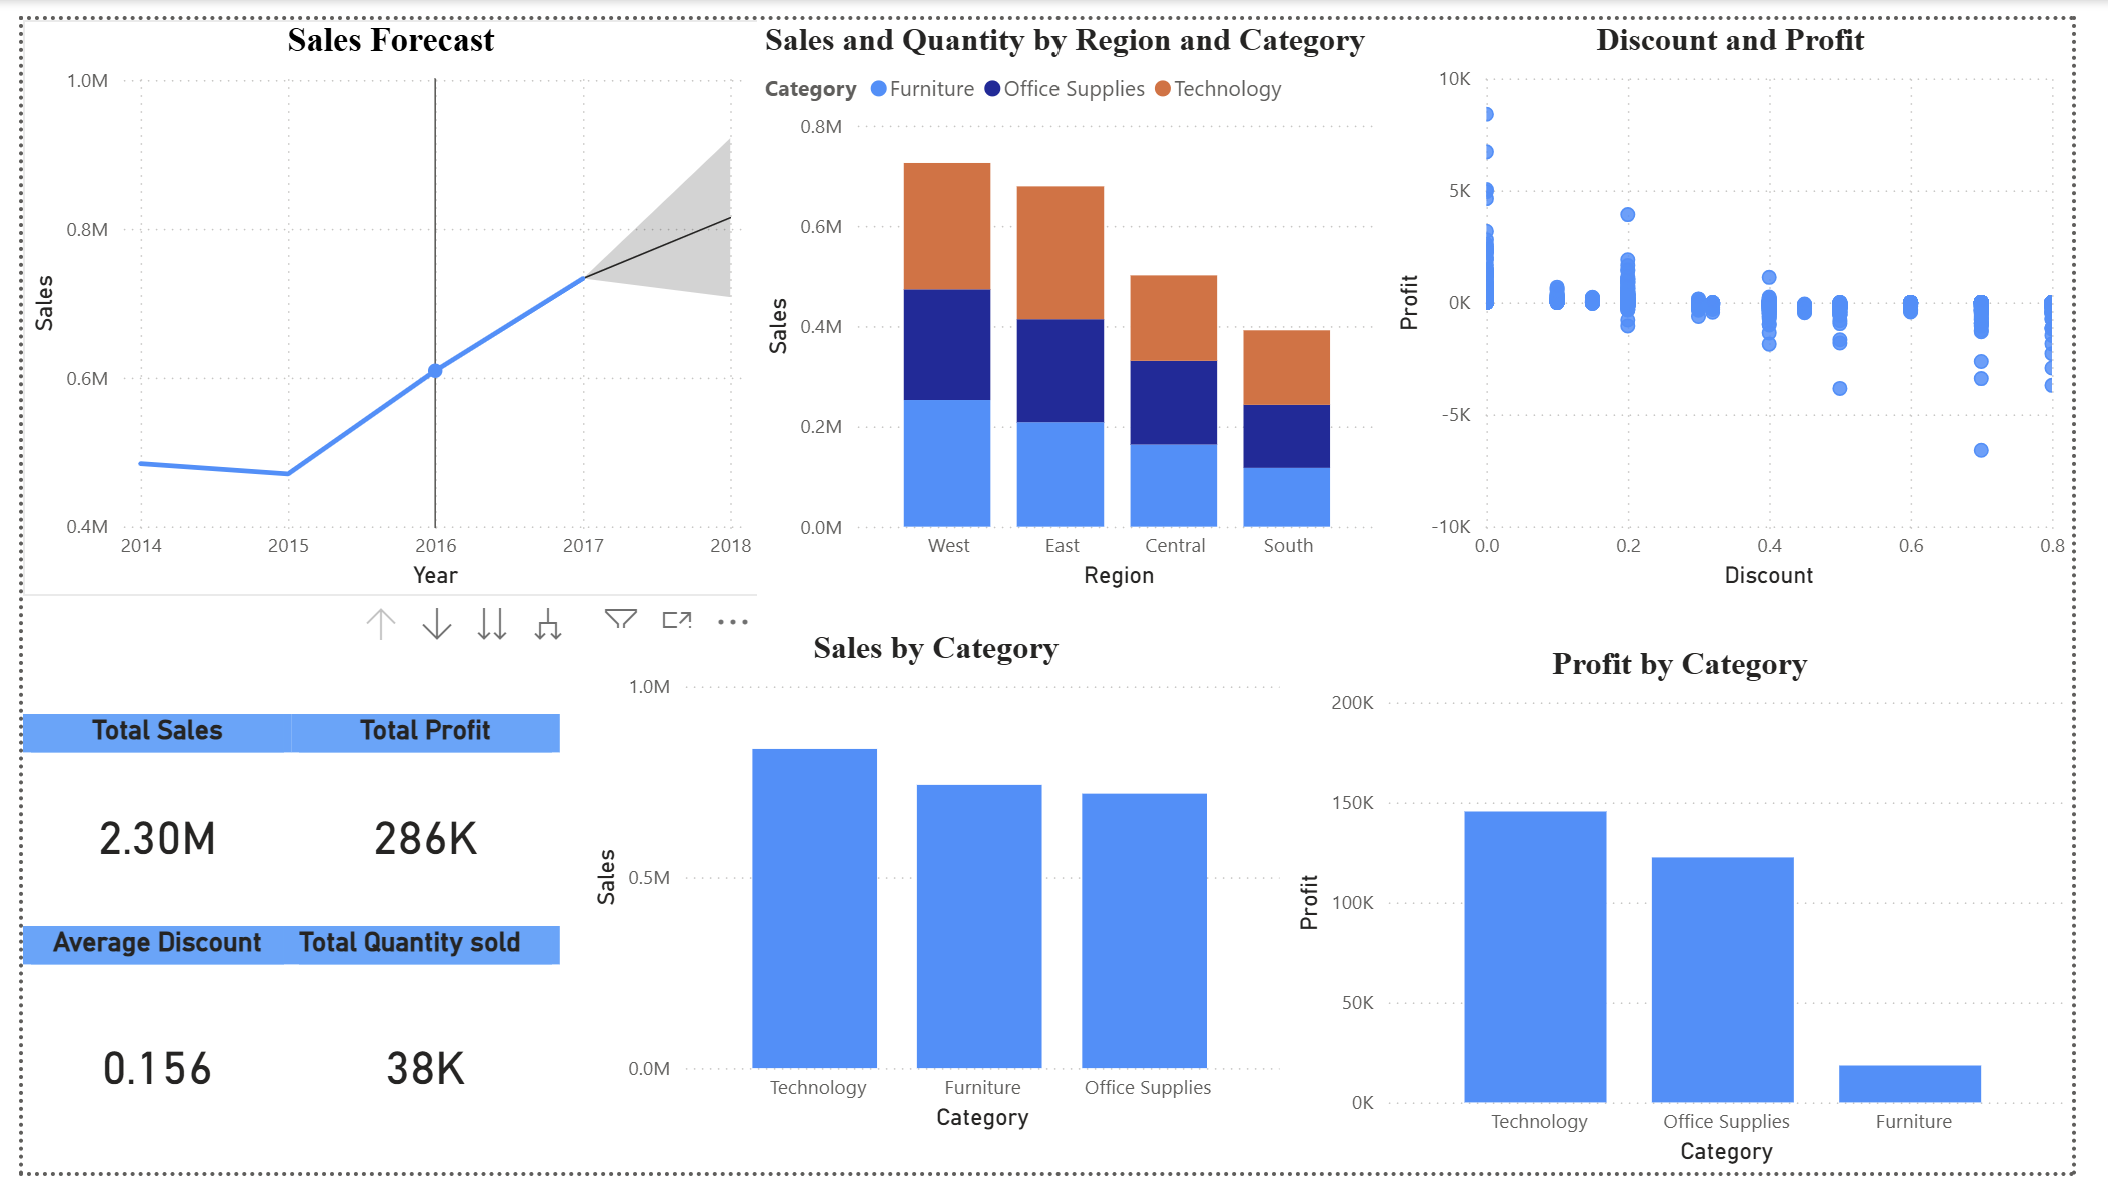

The dashboard page shown, as its layout file describes it:
{"tool":"powerbi","page":{"name":"Page 1","canvas":[1280,720],"ordinal":0},"visuals":[{"type":"lineChart","title":"Sales Forecast","fields":{"Y":["Sum(Retails Order Full Dataset.Sales)"],"Category":["Retails Order Full Dataset.Order Date.Variation.Date Hierarchy.Year","Retails Order Full Dataset.Order Date.Variation.Date Hierarchy.Quarter","Retails Order Full Dataset.Order Date.Variation.Date Hierarchy.Month","Retails Order Full Dataset.Order Date.Variation.Date Hierarchy.Day"]},"box":[0,0,460,360],"z":0},{"type":"columnChart","title":"Profit by Category","fields":{"Category":["Retails Order Full Dataset.Category"],"Y":["Sum(Retails Order Full Dataset.Profit)"]},"box":[790,390,490,330],"z":1000},{"type":"columnChart","title":"Sales by Category","fields":{"Category":["Retails Order Full Dataset.Category"],"Y":["Sum(Retails Order Full Dataset.Sales)"]},"box":[351.4,380,438.6,318.6],"z":2000},{"type":"columnChart","title":"Sales and  Quantity by Region and Category","fields":{"Category":["Retails Order Full Dataset.Region"],"Y":["Sum(Retails Order Full Dataset.Sales)"],"Series":["Retails Order Full Dataset.Category"]},"box":[459.4,0,393.1,360],"z":3000},{"type":"scatterChart","fields":{"X":["Retails Order Full Dataset.Discount"],"Y":["Retails Order Full Dataset.Profit"]},"box":[852,0,428,360],"z":4000},{"type":"card","title":"Total Profit","fields":{"Values":["Sum(Retails Order Full Dataset.Profit)"]},"box":[168,434,168,132],"z":5000},{"type":"card","title":"Total Sales","fields":{"Values":["Sum(Retails Order Full Dataset.Sales)"]},"box":[0,434,168,132],"z":6000},{"type":"card","title":"Average Discount","fields":{"Values":["Avg(Retails Order Full Dataset.Discount)"]},"box":[0,566,168,154],"z":7000},{"type":"card","title":"Total Quantity sold","fields":{"Values":["Sum(Retails Order Full Dataset.Quantity)"]},"box":[168,566,168,154],"z":8000}]}

Visuals, with their boxes in screenshot pixels (x1, y1, x2, y2), scaled from the page's 1280x720 canvas onto the 2108x1200 screenshot:
"Sales Forecast" lineChart: Rect(0, 0, 758, 600)
"Profit by Category" columnChart: Rect(1301, 650, 2107, 1199)
"Sales by Category" columnChart: Rect(579, 633, 1301, 1164)
"Sales and  Quantity by Region and Category" columnChart: Rect(757, 0, 1404, 600)
scatterChart - Retails Order Full Dataset.Discount x Retails Order Full Dataset.Profit: Rect(1403, 0, 2107, 600)
"Total Profit" card: Rect(277, 723, 553, 943)
"Total Sales" card: Rect(0, 723, 277, 943)
"Average Discount" card: Rect(0, 943, 277, 1199)
"Total Quantity sold" card: Rect(277, 943, 553, 1199)
